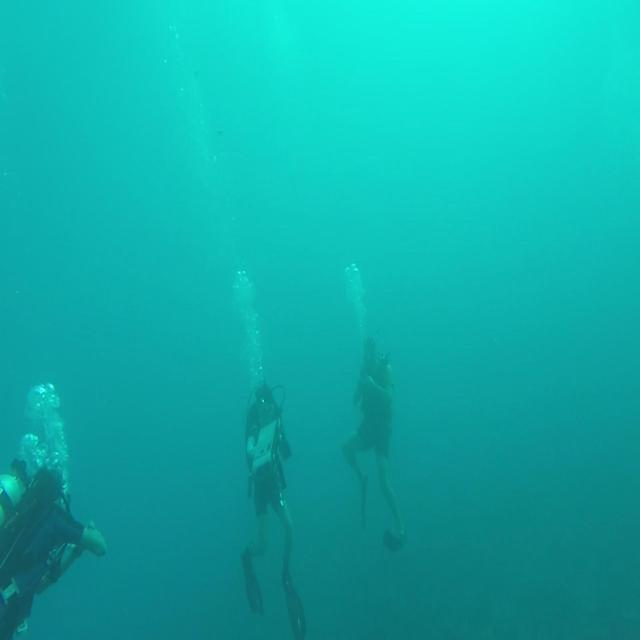human: (0, 457, 106, 638), (240, 381, 306, 638), (342, 335, 406, 552)
